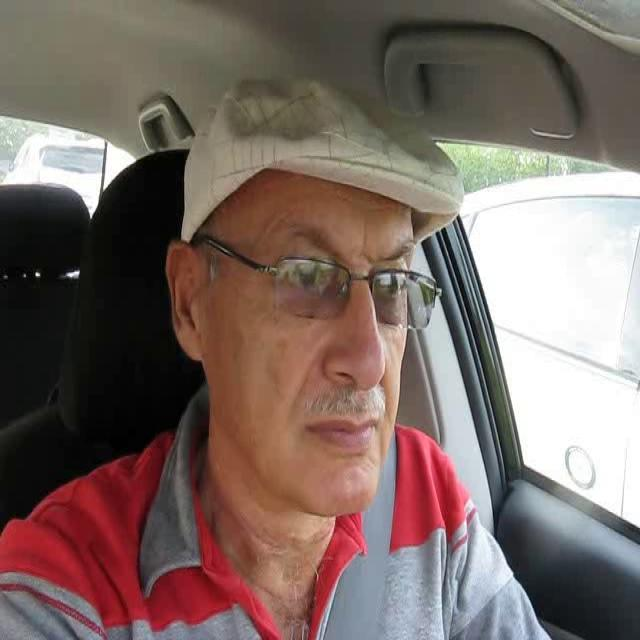close: (300, 414, 380, 454)
